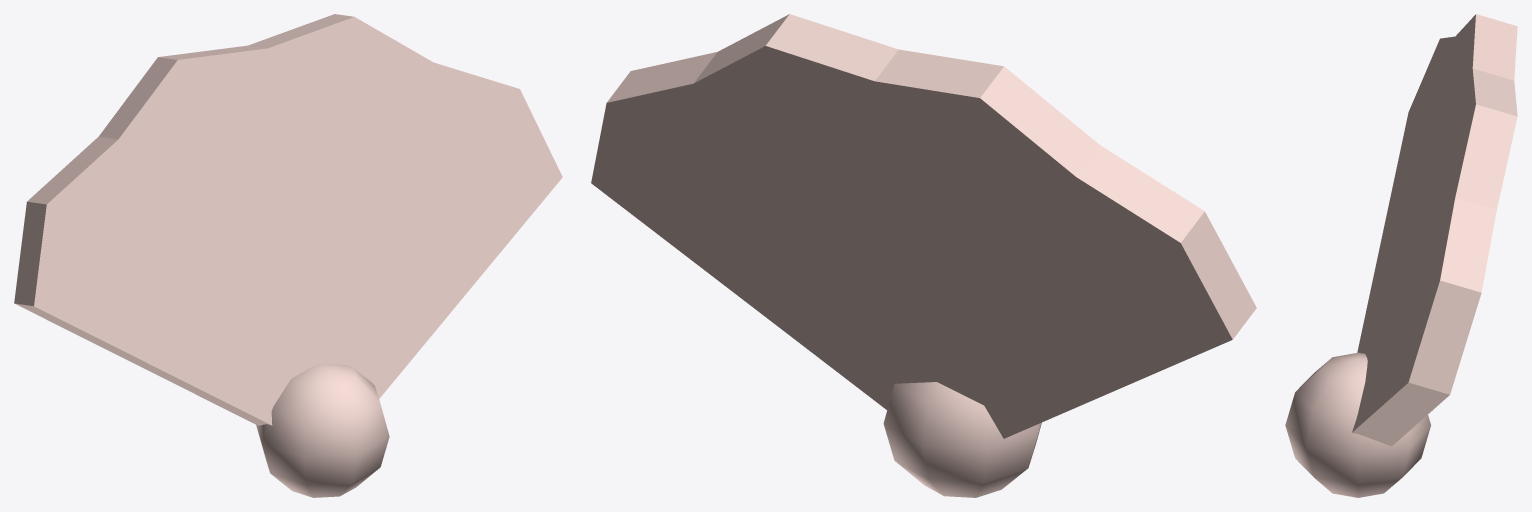
The model's file is xy_item_shell.glb.
3 views of the same model, side by side, from view 1: azimuth 30°, elevation 25°; view 2: azimuth 150°, elevation 25°; view 3: azimuth 270°, elevation 25° (orthographic). The views are drawn at different scales.
Parts seen in each view (by area): view 1: xy_item_shell; view 2: xy_item_shell; view 3: xy_item_shell.
Boxes of the visible parts, bbox=[...] form: xy_item_shell: bbox=[14, 14, 562, 497]; xy_item_shell: bbox=[591, 14, 1256, 497]; xy_item_shell: bbox=[1285, 14, 1517, 497].
Size of the model in its own units: 0.4385 by 0.327 by 0.1593.
